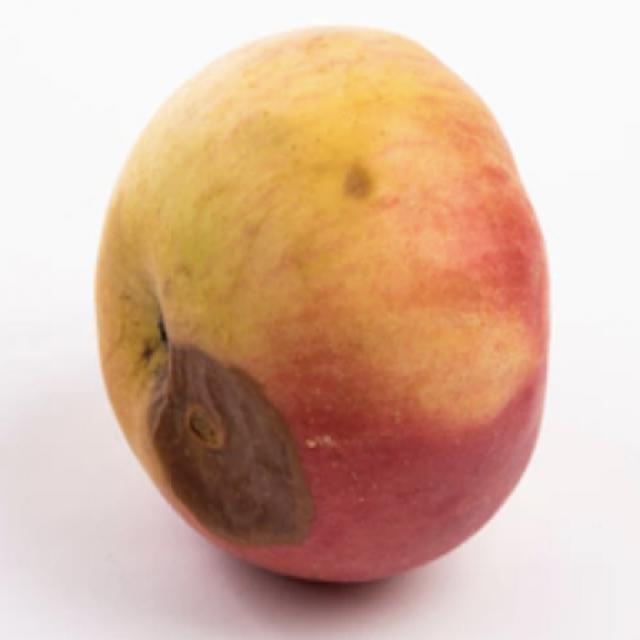Rotten: (91, 23, 552, 587)
